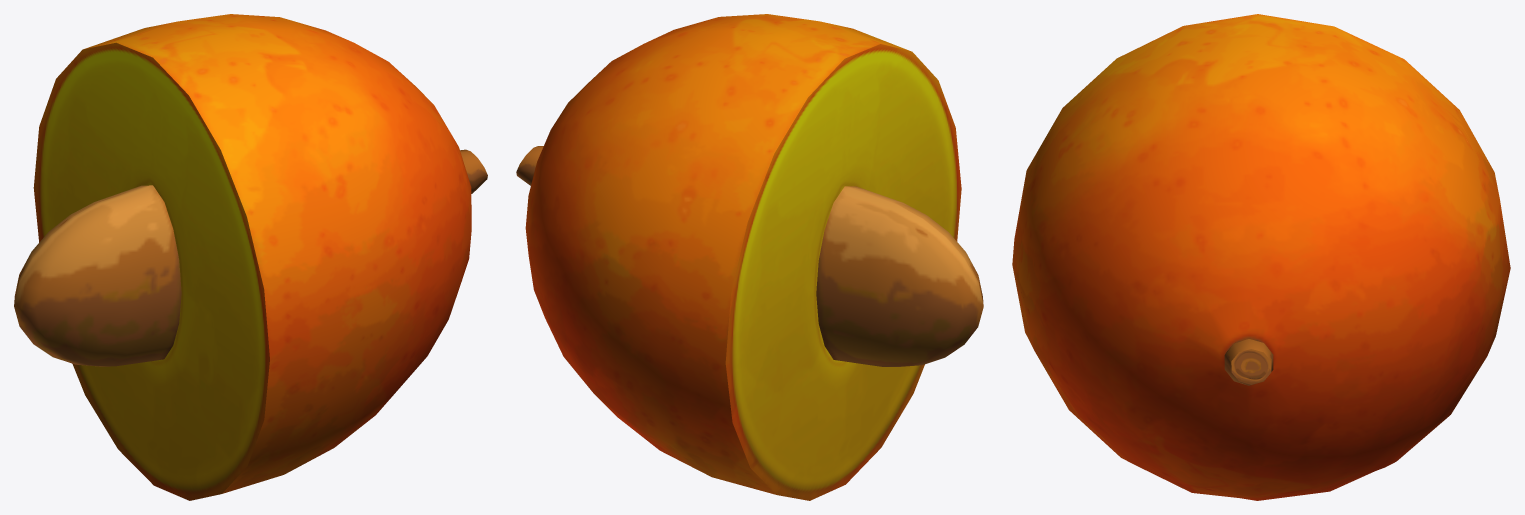
The model's file is SM_MangoCutD.fbx.
3 views of the same model, side by side, from view 1: azimuth 30°, elevation 25°; view 2: azimuth 150°, elevation 25°; view 3: azimuth 270°, elevation 25° (orthographic). The views are drawn at different scales.
Parts seen in each view (by area): view 1: SM_MangoCutD; view 2: SM_MangoCutD; view 3: SM_MangoCutD.
Boxes of the visible parts, bbox=[...] form: SM_MangoCutD: bbox=[14, 14, 487, 500]; SM_MangoCutD: bbox=[516, 14, 983, 500]; SM_MangoCutD: bbox=[1012, 14, 1510, 500].
Bounding box in the file's own units: 17.56 × 15.59 × 15.65.
